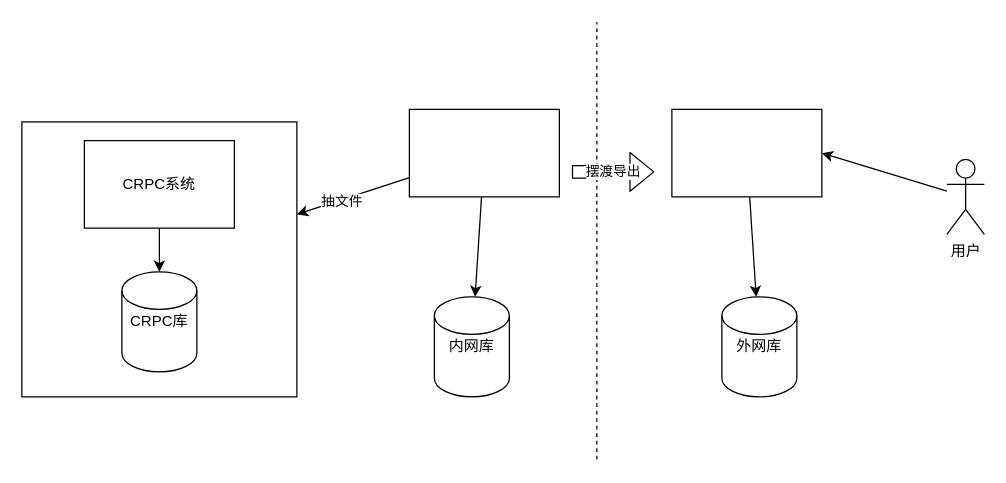
Some shapes in this 1006 by 483 pixel diagram are drawn without their labels. Here are the shapes that lost their labels. From the top down, the centre of each, then its label:
At pixel 483 152: "内网系统".
At pixel 746 152: "外网系统".
